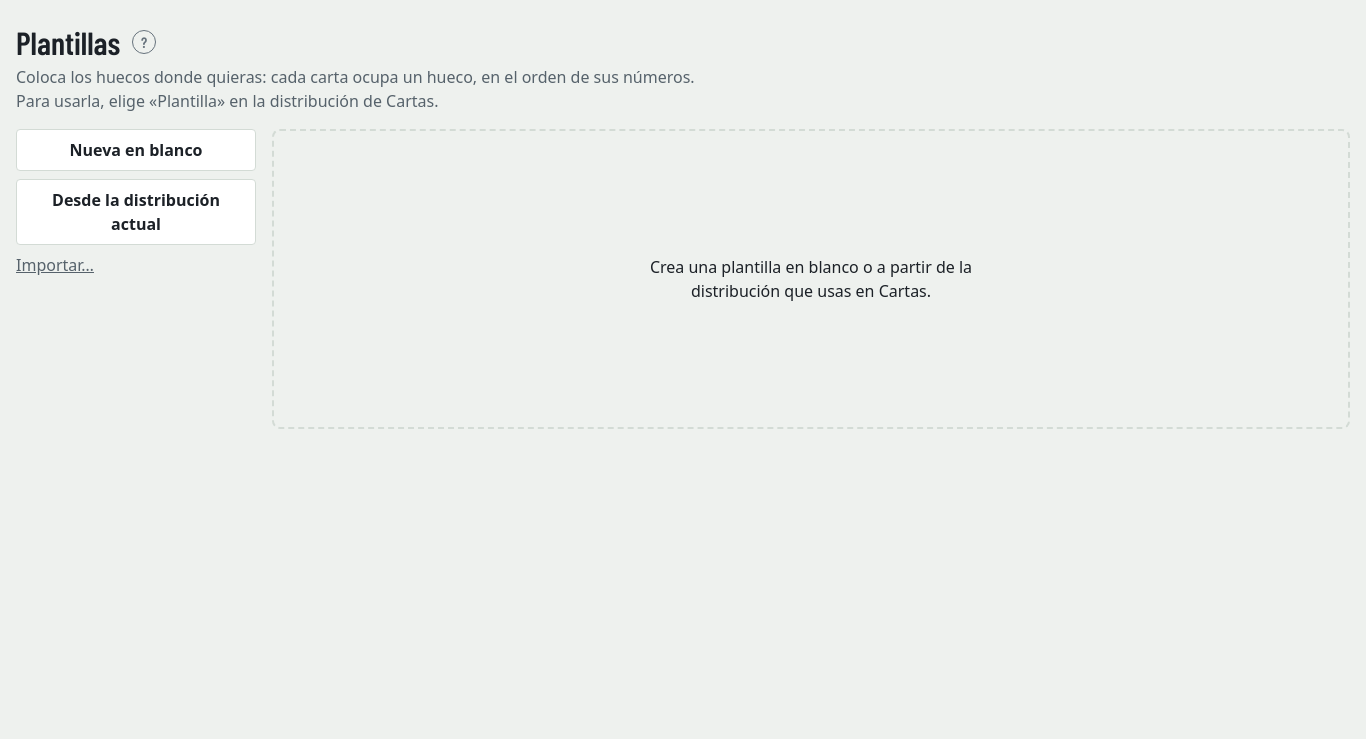
Plantillas › crea una plantilla desde la distribución actual (3 × 3 en A4)
Click the button "Desde la distribución actual": [136, 212] box x1=16 y1=179 x2=256 y2=245
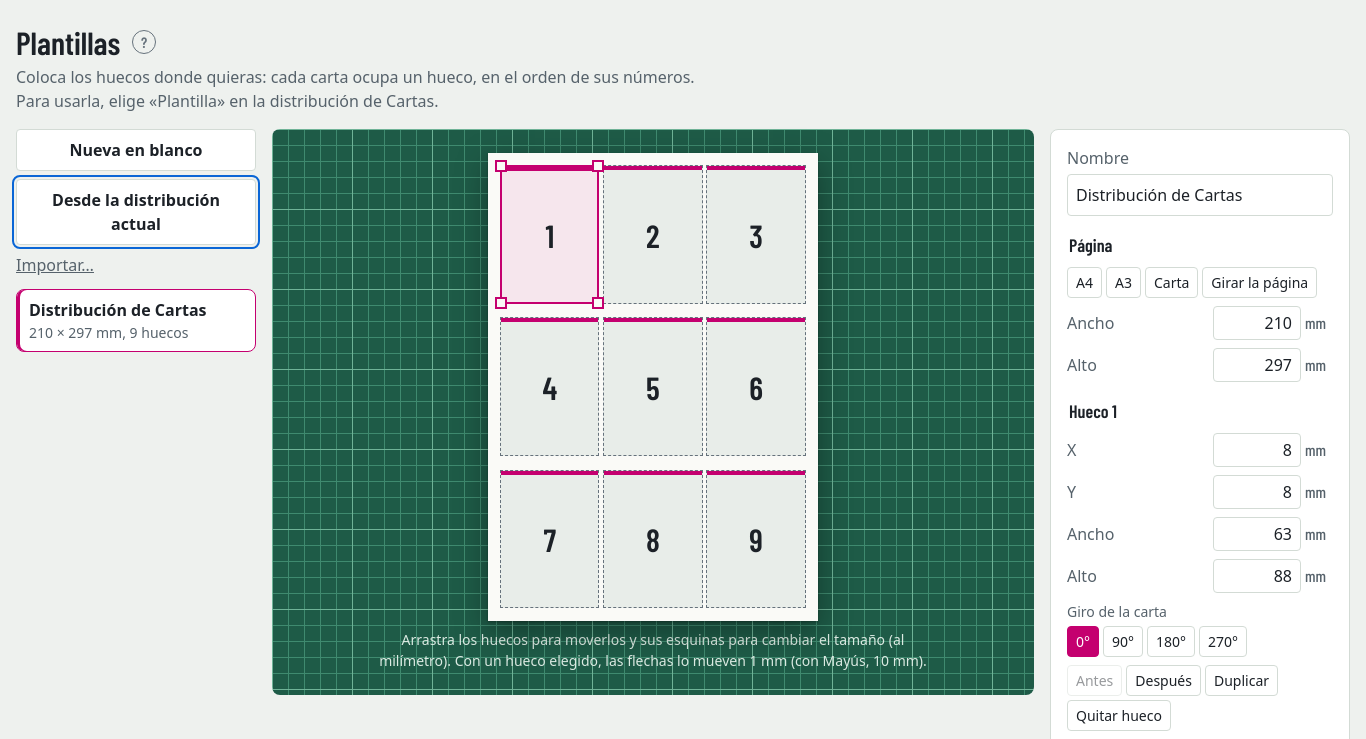
Now the number of buttons "1" is 9
Now the text "210 × 297 mm, 9 huecos" is shown, box x1=29 y1=322 x2=188 y2=343
